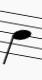note: (2, 3, 32, 67)
